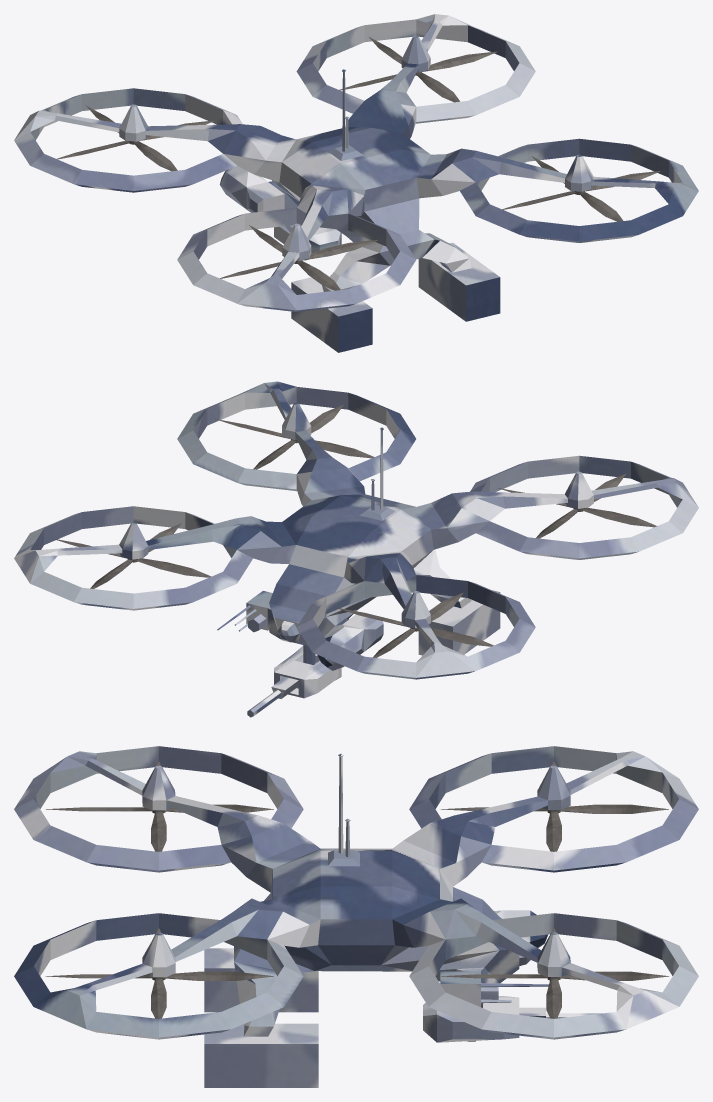
Rendered from drone.fbx.
3 views of the same model, one above another, from view 1: azimuth 30°, elevation 25°; view 2: azimuth 150°, elevation 25°; view 3: azimuth 270°, elevation 25° (orthographic). The views are drawn at different scales.
Parts seen in each view (by area): view 1: sad_drone, sad_drone.003, sad_drone.002, sad_drone.001, sad_drone.004; view 2: sad_drone, sad_drone.004, sad_drone.001, sad_drone.002, sad_drone.003; view 3: sad_drone, sad_drone.001, sad_drone.002, sad_drone.004, sad_drone.003.
Part boxes in pixels (x1,y1,x2,y2): sad_drone: (14,14,698,352); sad_drone.003: (220,225,378,290); sad_drone.002: (339,37,498,102); sad_drone.001: (502,156,661,221); sad_drone.004: (57,105,215,171); sad_drone: (14,381,698,717); sad_drone.004: (334,592,493,657); sad_drone.001: (215,404,374,469); sad_drone.002: (52,523,210,588); sad_drone.003: (498,473,656,538); sad_drone: (14,746,698,1087); sad_drone.001: (45,927,273,1018); sad_drone.002: (441,927,668,1018); sad_drone.004: (441,760,668,851); sad_drone.003: (46,760,273,851).
Size of the model in its own units: 520 by 230 by 520.
2 materials, 2 textured.
